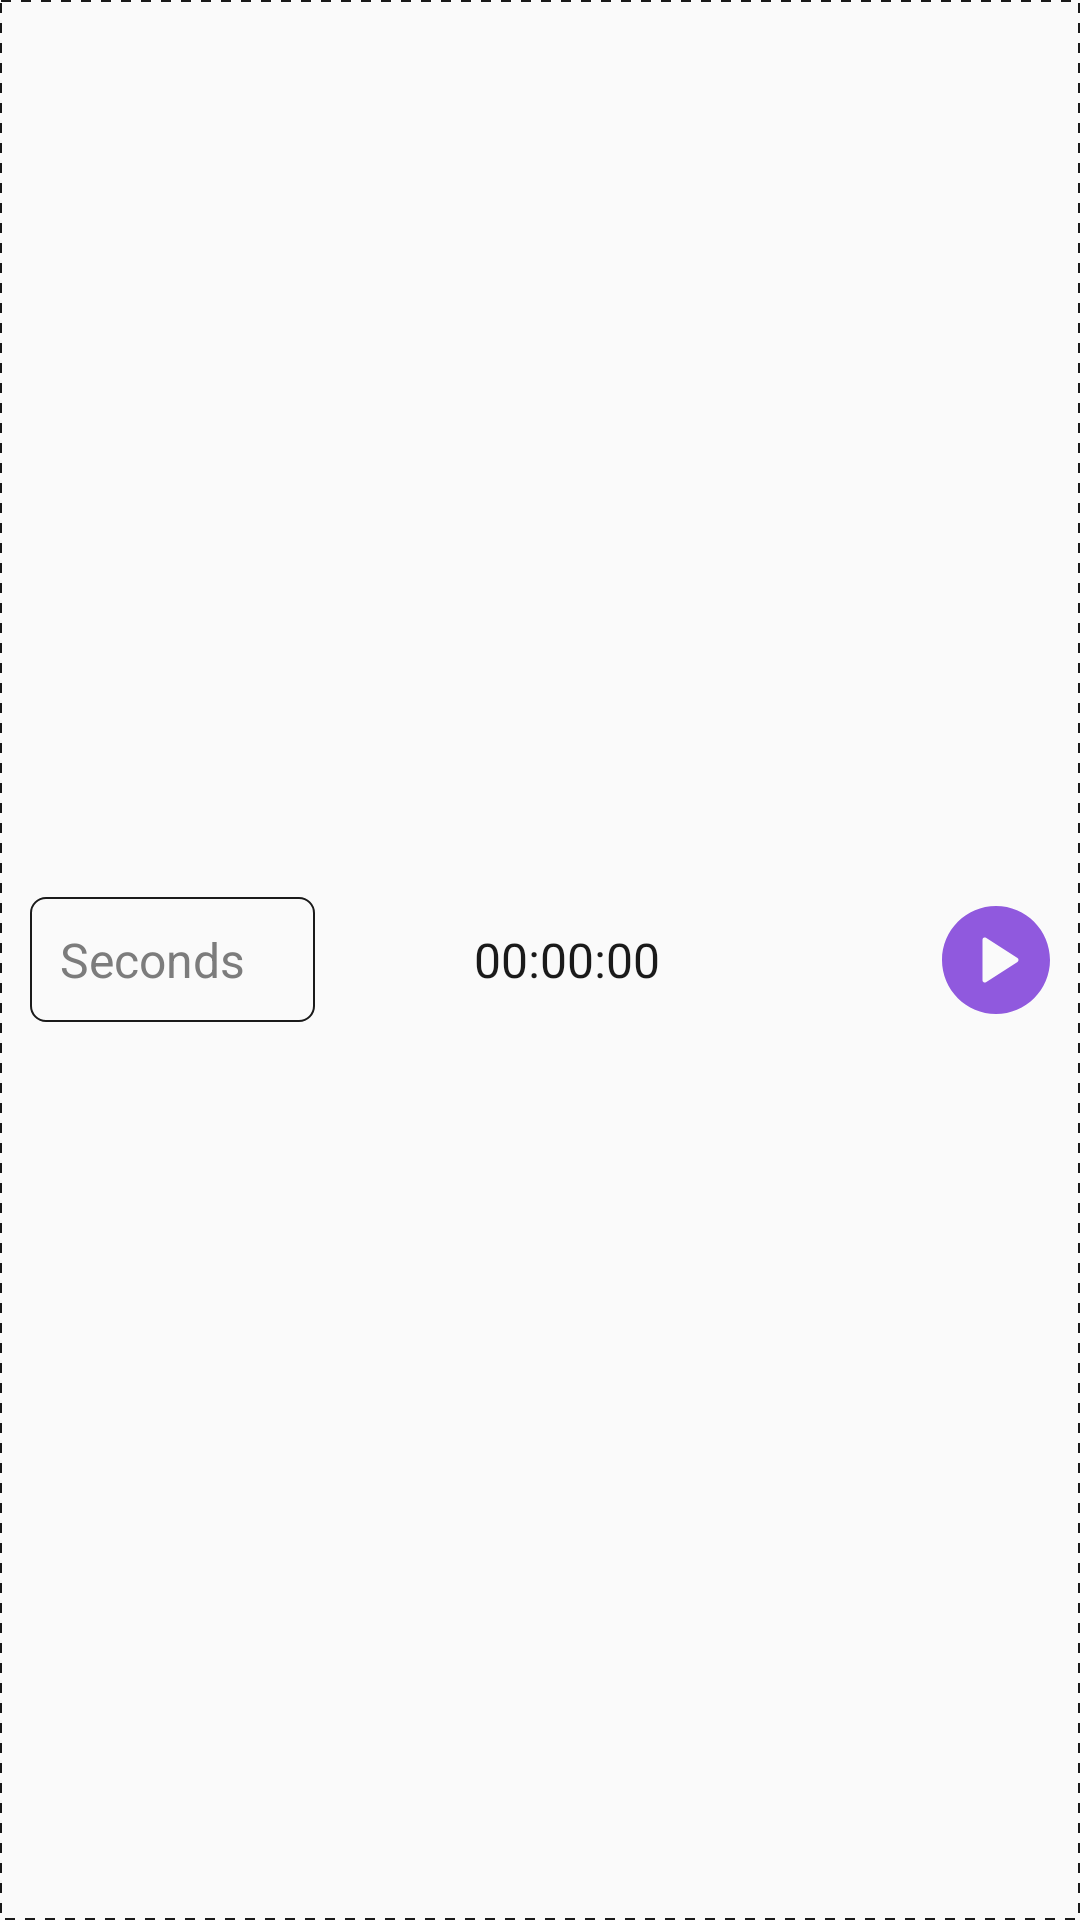

Named icons in this screenshot (1080x1920) and their centers, point (x, y):
Start: point (996, 960)
